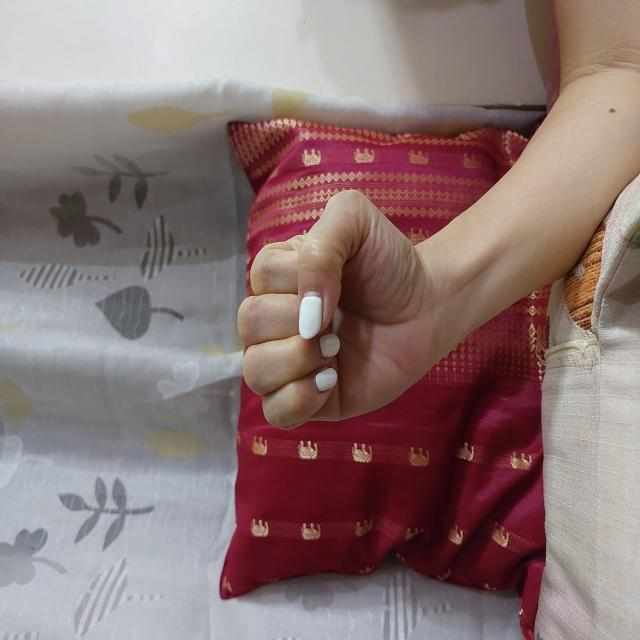S: (204, 234, 456, 428)
